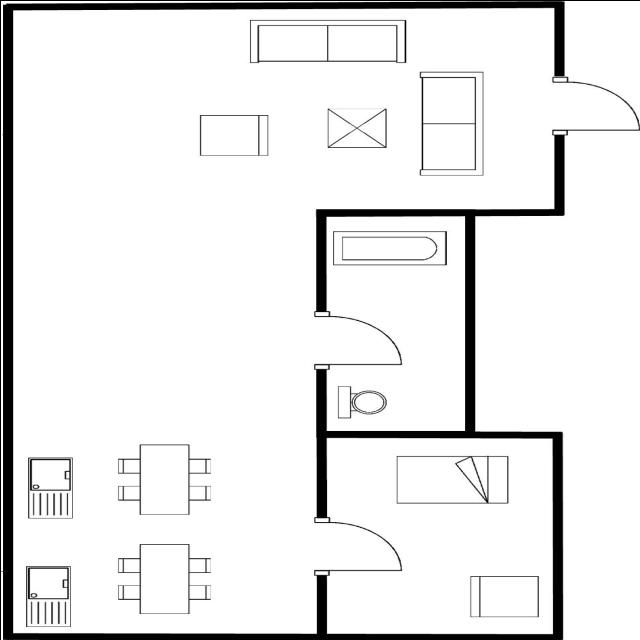bed: (389, 452, 514, 508)
coffee_table: (321, 104, 394, 150)
dining_table: (111, 440, 214, 520), (113, 540, 217, 618)
large_sink: (330, 379, 396, 422)
large_sofa: (244, 12, 411, 66), (412, 65, 491, 179)
sink: (21, 452, 80, 522), (18, 562, 78, 630)
small_sofa: (193, 108, 277, 160), (466, 572, 546, 620)
tub: (328, 226, 452, 268)
